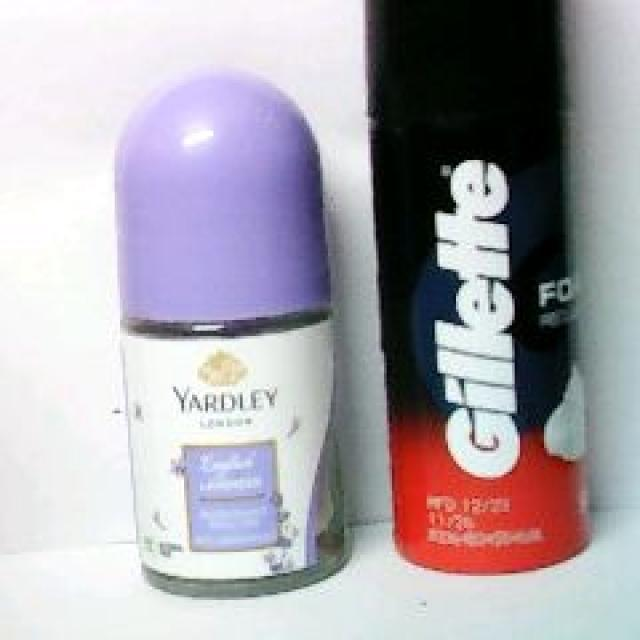gillette-foam: (363, 0, 592, 576)
yardley_rollon: (115, 67, 352, 605)
